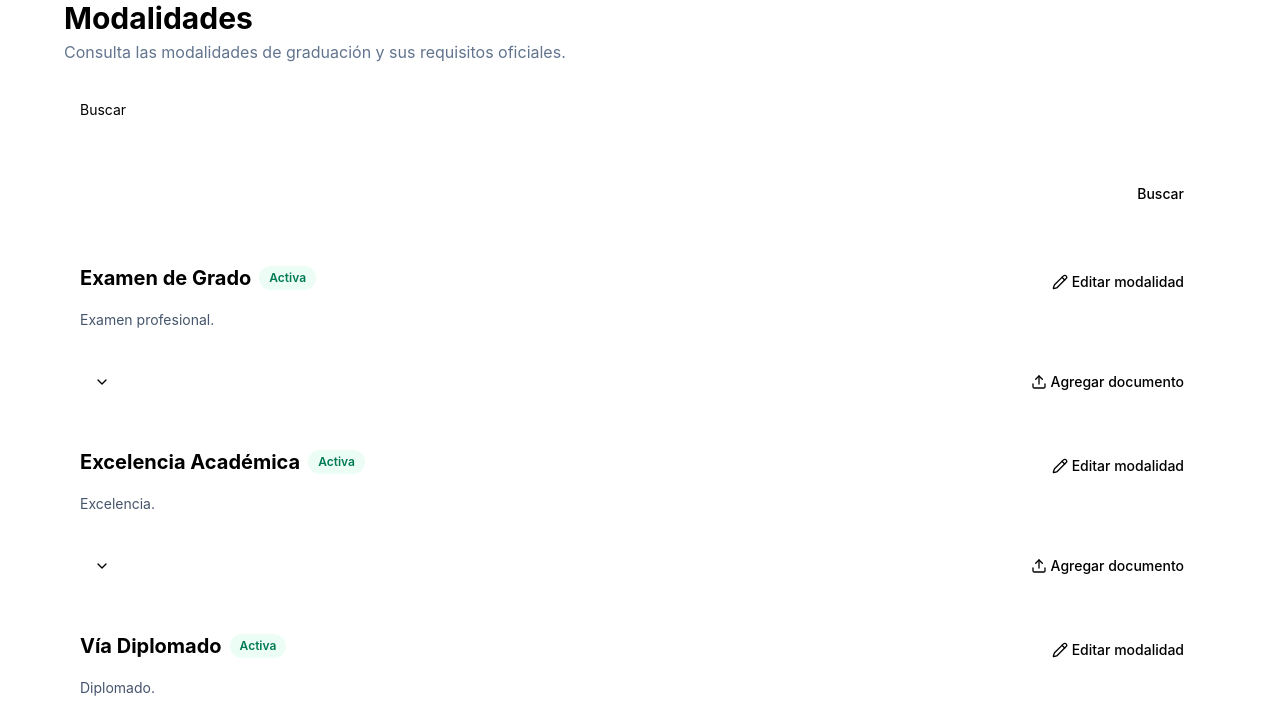
Scenario: administrador ve Editar y Subir requisitos, y edita solo descripción
Later steps or results of the test are not shown.
Click the button "Editar modalidad" in the row of "Examen de Grado".
click(1118, 282)  # box [1036,264,1200,300]
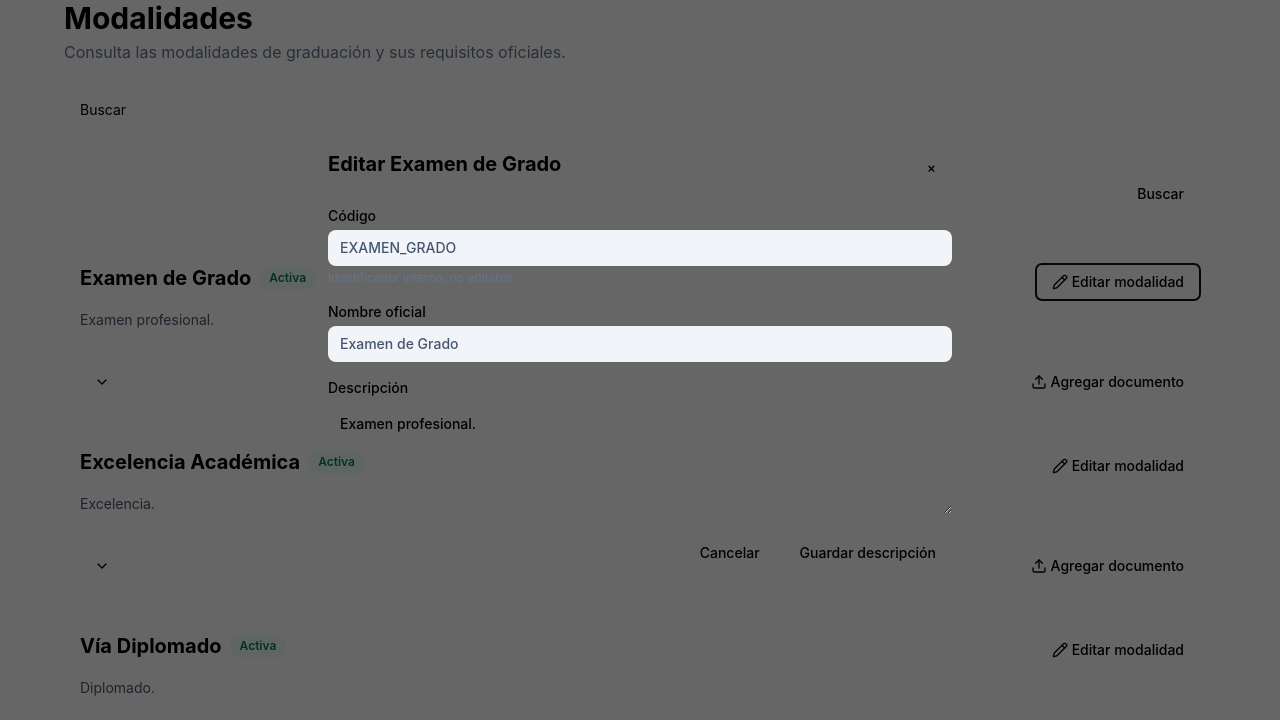
Expected: the text "EXAMEN_GRADO" is shown, [328,230,952,266]
Expected: the text "Examen de Grado" is shown, [328,326,952,362]
